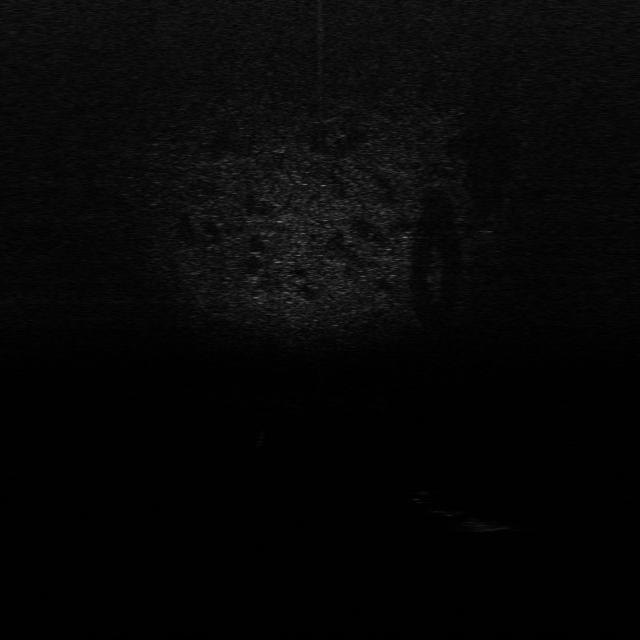metal bucket: (460, 516, 526, 536)
tyre: (414, 486, 468, 517)
